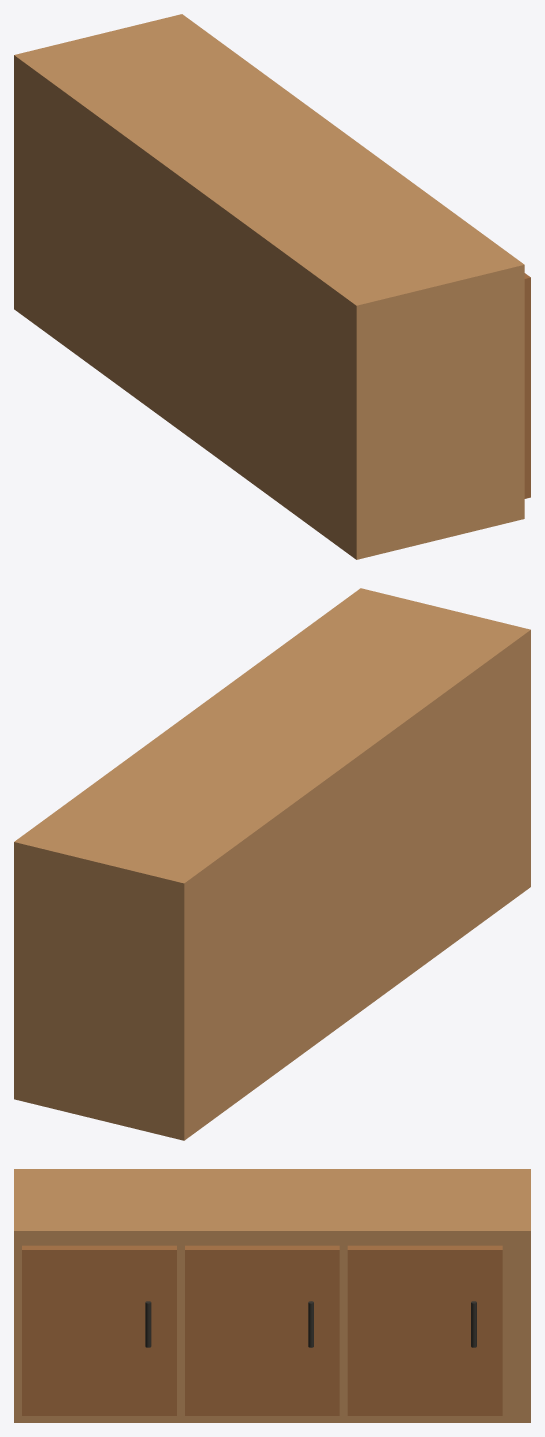
Rendered from living-sideboard.gltf.
3 renders of one model, top to bottom at view 1: azimuth 30°, elevation 25°; view 2: azimuth 150°, elevation 25°; view 3: azimuth 270°, elevation 25°, orthographic. The views are drawn at different scales.
Parts seen in each view (by area): view 1: Living low sideboard, Sideboard cabinet front; view 2: Living low sideboard; view 3: Sideboard cabinet front (×3), Living low sideboard, Sideboard pull.
Boxes of the visible parts, left/top/right/bottom form: Living low sideboard: left=14, top=14, right=524, bottom=559; Sideboard cabinet front: left=524, top=273, right=530, bottom=498; Living low sideboard: left=14, top=588, right=530, bottom=1140; Sideboard cabinet front (×3): left=22, top=1245, right=502, bottom=1415; Living low sideboard: left=14, top=1169, right=530, bottom=1422; Sideboard pull: left=145, top=1301, right=151, bottom=1347.
Size of the model in its own units: 0.417 by 0.52 by 1.27.
